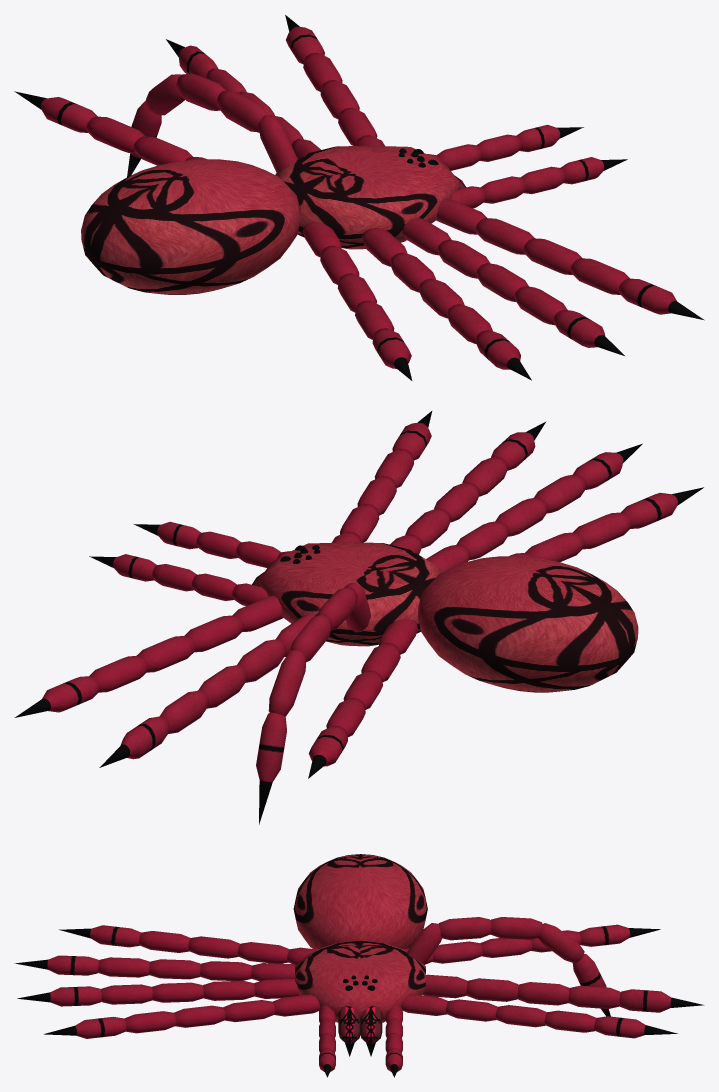
File: spider goed fbx.fbx
The picture shows the model from 3 angles, top to bottom: view 1: azimuth 30°, elevation 25°; view 2: azimuth 150°, elevation 25°; view 3: azimuth 270°, elevation 25°; orthographic projection. The views are drawn at different scales.
Visible parts, largest first — view 1: Sphere, Capsule, Capsule_2, Capsule_1_5, Capsule_1_6, Capsule_1_2, Capsule_1_3, Capsule_10, Capsule_3_6, Capsule_2_6, Capsule_4, Capsule_1_4 (+26 smaller); view 2: Sphere, Capsule_2, Capsule_1, Capsule, Capsule_1_7, Capsule_1_8, Capsule_1_4, Capsule_3_8, Capsule_14, Capsule_1_3, Capsule_8, Capsule_2_8 (+28 smaller); view 3: Sphere, Capsule_2, Capsule, Capsule_1_8, Capsule_1_6, Capsule_1_3, Capsule_1_7, Capsule_1_5, Capsule_1_4, Capsule_1_2, Capsule_3_9, Capsule_16 (+28 smaller).
Boxes of the visible parts, box(x1,y1,x2,y2) form: Sphere: box(81, 145, 458, 294); Capsule: box(217, 91, 297, 172); Capsule_2: box(145, 73, 225, 115); Capsule_1_5: box(618, 278, 704, 320); Capsule_1_6: box(553, 309, 624, 355); Capsule_1_2: box(14, 91, 97, 132); Capsule_1_3: box(475, 330, 531, 380); Capsule_10: box(570, 258, 629, 294); Capsule_3_6: box(475, 218, 534, 254); Capsule_2_6: box(523, 238, 582, 274); Capsule_4: box(86, 116, 145, 153); Capsule_1_4: box(372, 328, 412, 380); Sphere: box(260, 542, 638, 692); Capsule_2: box(268, 613, 331, 716); Capsule_1: box(256, 712, 286, 824); Capsule: box(318, 582, 370, 632); Capsule_1_7: box(14, 676, 100, 717); Capsule_1_8: box(99, 716, 170, 767); Capsule_1_4: box(621, 487, 703, 528); Capsule_3_8: box(184, 615, 244, 652); Capsule_14: box(89, 655, 148, 692); Capsule_1_3: box(573, 443, 642, 489); Capsule_8: box(573, 512, 632, 549); Capsule_2_8: box(136, 636, 195, 672); Sphere: box(293, 854, 427, 1022); Capsule_2: box(490, 917, 584, 963); Capsule: box(407, 917, 491, 964); Capsule_1_8: box(619, 989, 704, 1012); Capsule_1_6: box(17, 986, 101, 1006); Capsule_1_3: box(14, 955, 98, 975); Capsule_1_7: box(594, 1016, 677, 1038); Capsule_1_5: box(44, 1016, 126, 1038); Capsule_1_4: box(59, 925, 141, 947); Capsule_1_2: box(579, 924, 660, 946); Capsule_3_9: box(466, 978, 518, 1001); Capsule_16: box(568, 985, 620, 1008).
Size of the model in its own units: 10.13 by 2.95 by 15.44.
Materials: 6 (4 with a texture image).
